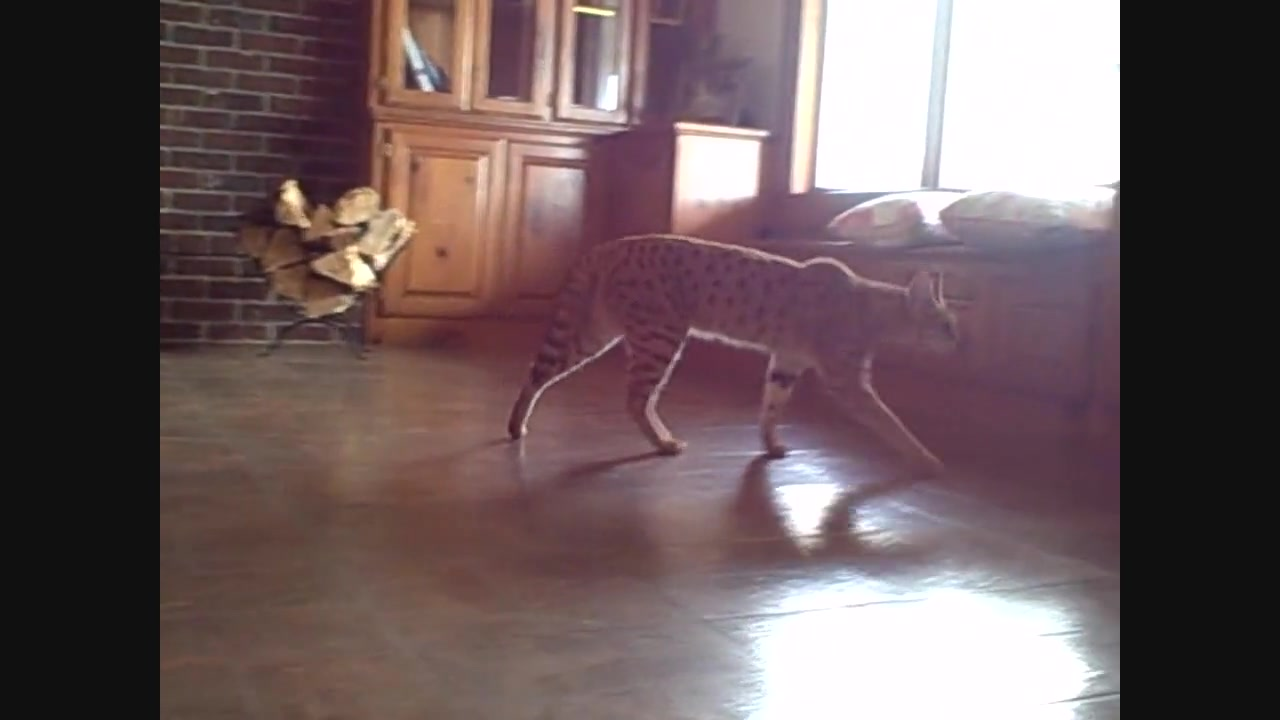cat: (504, 231, 967, 475)
